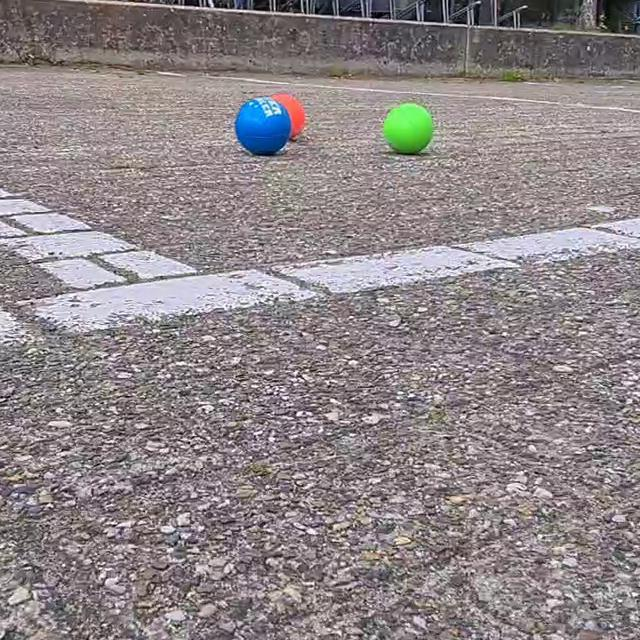ball: (228, 95, 296, 156), (382, 102, 436, 156)
